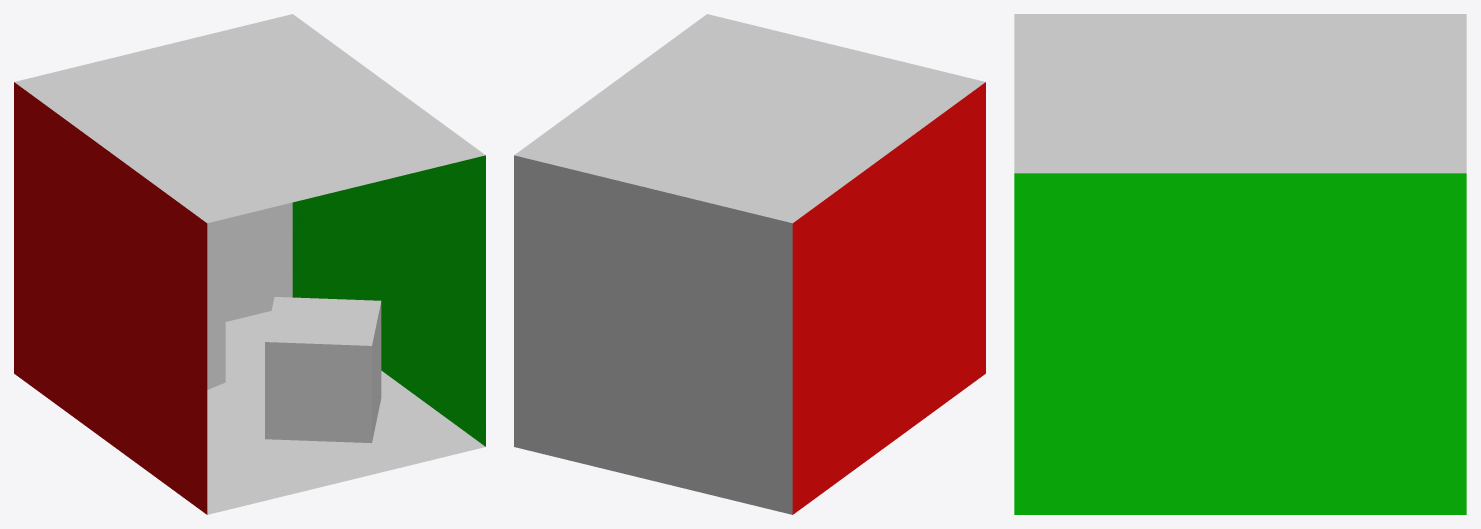
The model's file is cornell-box.glb.
The picture shows the model from 3 angles, left to right: view 1: azimuth 30°, elevation 25°; view 2: azimuth 150°, elevation 25°; view 3: azimuth 270°, elevation 25°; orthographic projection. The views are drawn at different scales.
Parts seen in each view (by area): view 1: Box, LeftWall, RightWall, Cube, Rect; view 2: Box, LeftWall; view 3: RightWall, Box.
Part boxes in pixels (x1,y1,x2,y2): Box: (14, 14, 485, 514); LeftWall: (14, 82, 207, 514); RightWall: (292, 155, 485, 446); Cube: (265, 297, 381, 442); Rect: (207, 219, 225, 389); Box: (514, 14, 985, 514); LeftWall: (792, 82, 985, 514); RightWall: (1014, 173, 1466, 514); Box: (1014, 14, 1466, 173).
Size of the model in its own units: 6 by 6 by 7.2.
